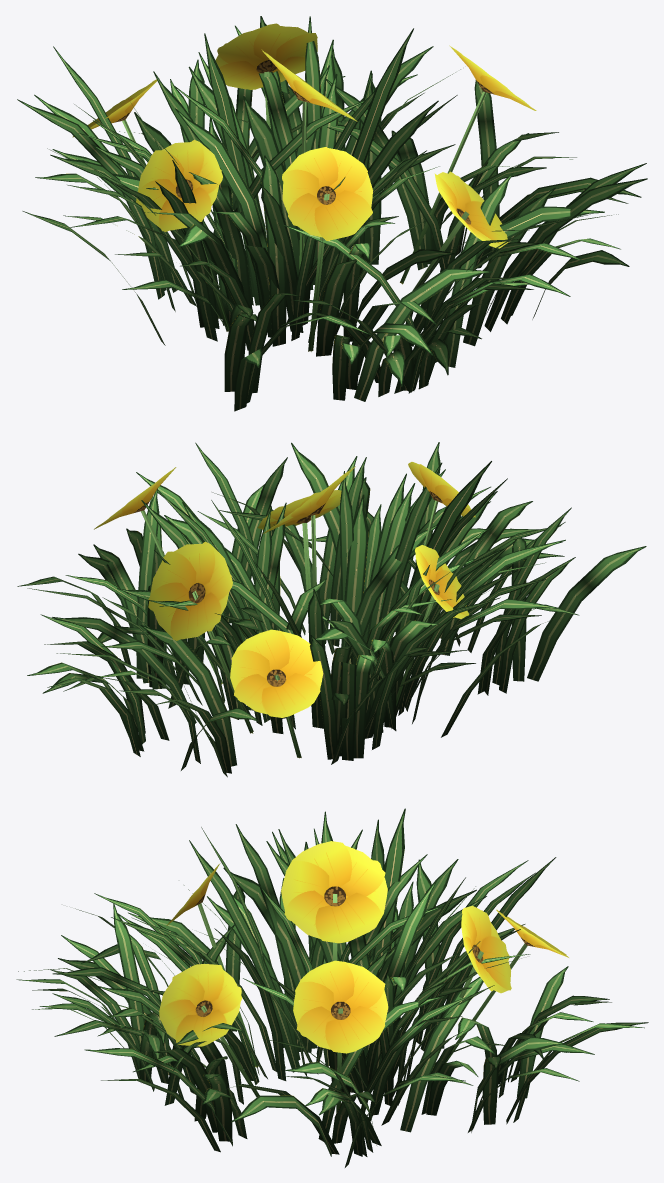
Rendered from mm7_deco_flower02.glb.
The picture shows the model from 3 angles, top to bottom: view 1: azimuth 30°, elevation 25°; view 2: azimuth 150°, elevation 25°; view 3: azimuth 270°, elevation 25°; orthographic projection. The views are drawn at different scales.
Parts seen in each view (by area): view 1: Plant; view 2: Plant; view 3: Plant.
Part boxes in pixels (left/top/right/bottom): Plant: left=17, top=16, right=647, bottom=411; Plant: left=17, top=442, right=646, bottom=777; Plant: left=16, top=808, right=648, bottom=1167.
Size of the model in its own units: 2.67 by 1.2 by 3.03.
1 material, 1 textured.
